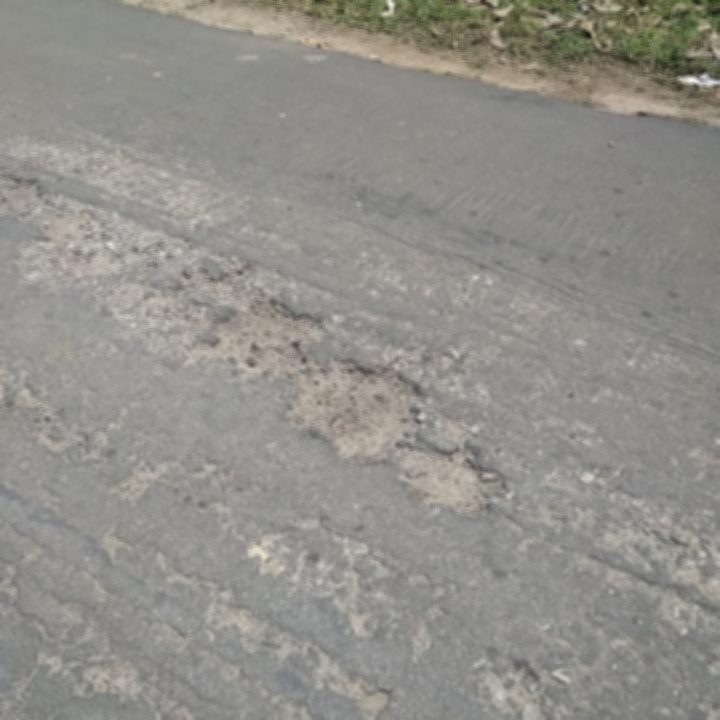pothole: (0, 166, 140, 277), (282, 357, 426, 462), (206, 291, 324, 378), (398, 441, 501, 520)
